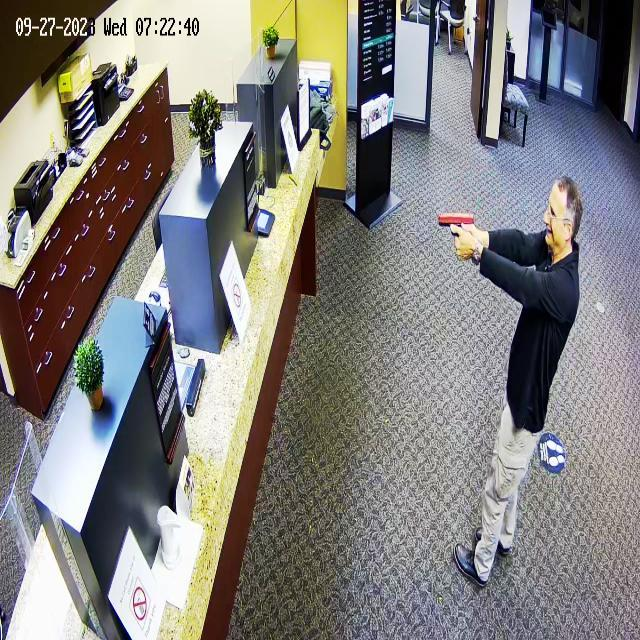Gun: (424, 198, 482, 258)
